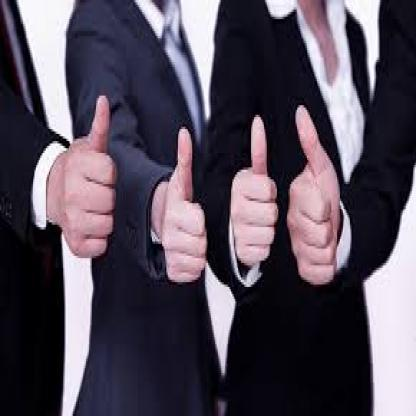thumb_up: (285, 100, 344, 288), (57, 90, 119, 259), (229, 112, 279, 270), (163, 124, 209, 288)
